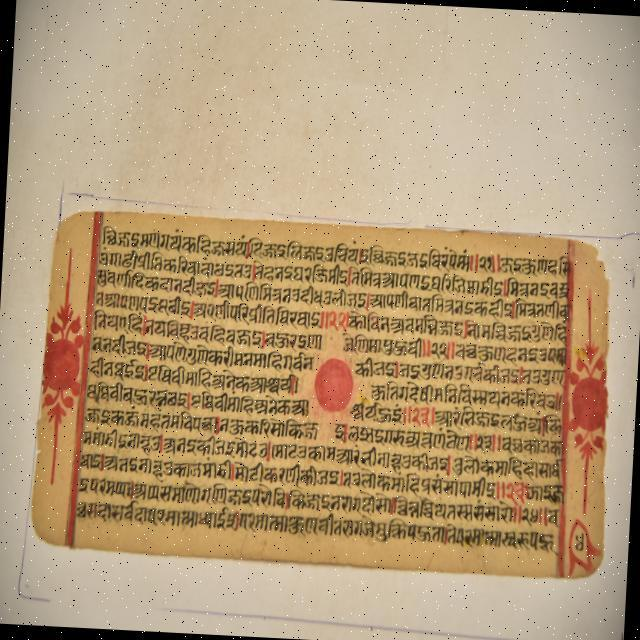text_paragraph: (25, 208, 605, 577)
